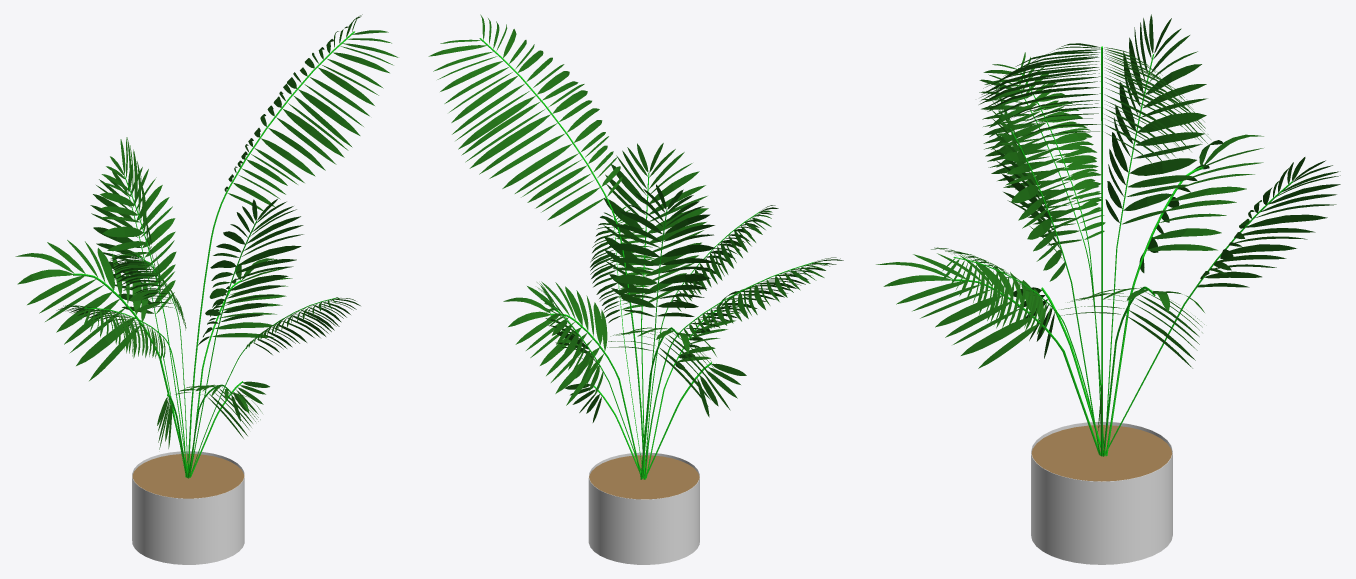
The model's file is planta 2.glb.
The picture shows the model from 3 angles, left to right: view 1: azimuth 30°, elevation 25°; view 2: azimuth 150°, elevation 25°; view 3: azimuth 270°, elevation 25°; orthographic projection. The views are drawn at different scales.
Visible parts, largest first — view 1: Areca palm_2; view 2: Areca palm_2; view 3: Areca palm_2.
Boxes of the visible parts, x1,y1,x2,y2 form: Areca palm_2: (15,14,398,564); Areca palm_2: (428,14,843,564); Areca palm_2: (876,14,1340,564).
Size of the model in its own units: 5.24 by 6.73 by 4.75.
